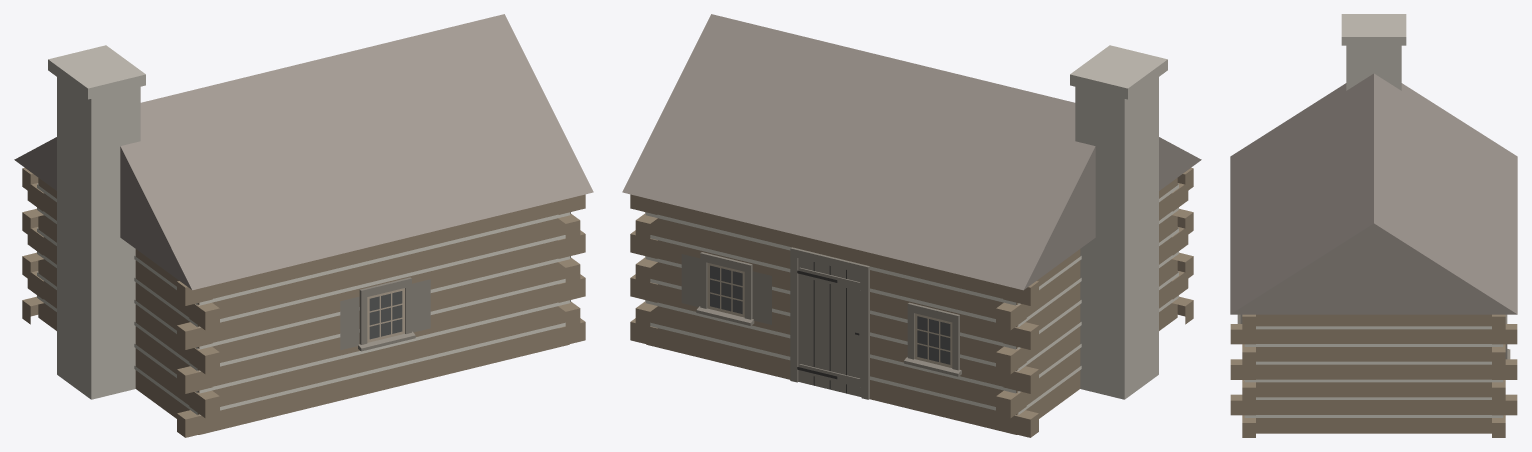
The model's file is blacksmith_shop_state_st__log_1823.glb.
The picture shows the model from 3 angles, left to right: view 1: azimuth 30°, elevation 25°; view 2: azimuth 150°, elevation 25°; view 3: azimuth 270°, elevation 25°; orthographic projection. The views are drawn at different scales.
Visible parts, largest first — view 1: blacksmith_shop_state_st__log_1823; view 2: blacksmith_shop_state_st__log_1823; view 3: blacksmith_shop_state_st__log_1823.
Boxes of the visible parts, left/top/right/bottom form: blacksmith_shop_state_st__log_1823: left=14, top=14, right=593, bottom=437; blacksmith_shop_state_st__log_1823: left=622, top=14, right=1201, bottom=437; blacksmith_shop_state_st__log_1823: left=1230, top=14, right=1517, bottom=437.
Size of the model in its own units: 7.07 by 4.87 by 5.
